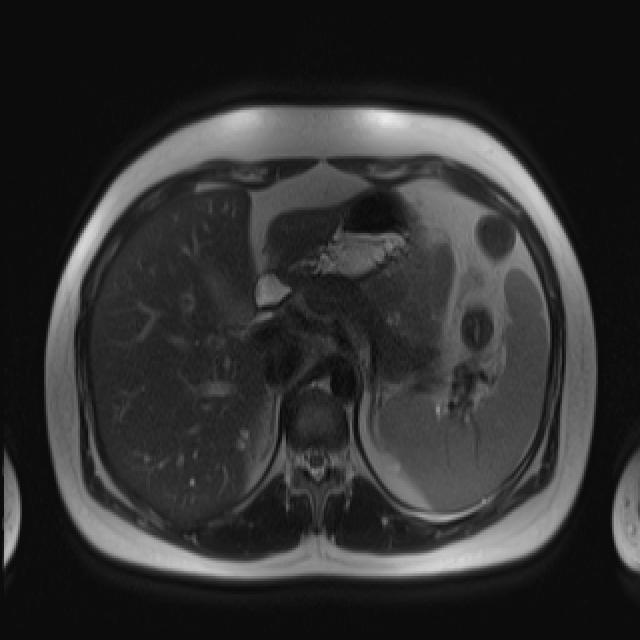sag: (240, 411, 269, 452)
